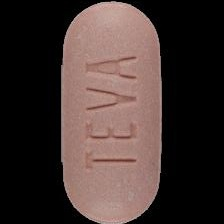52125-794: (0, 0, 224, 224)
